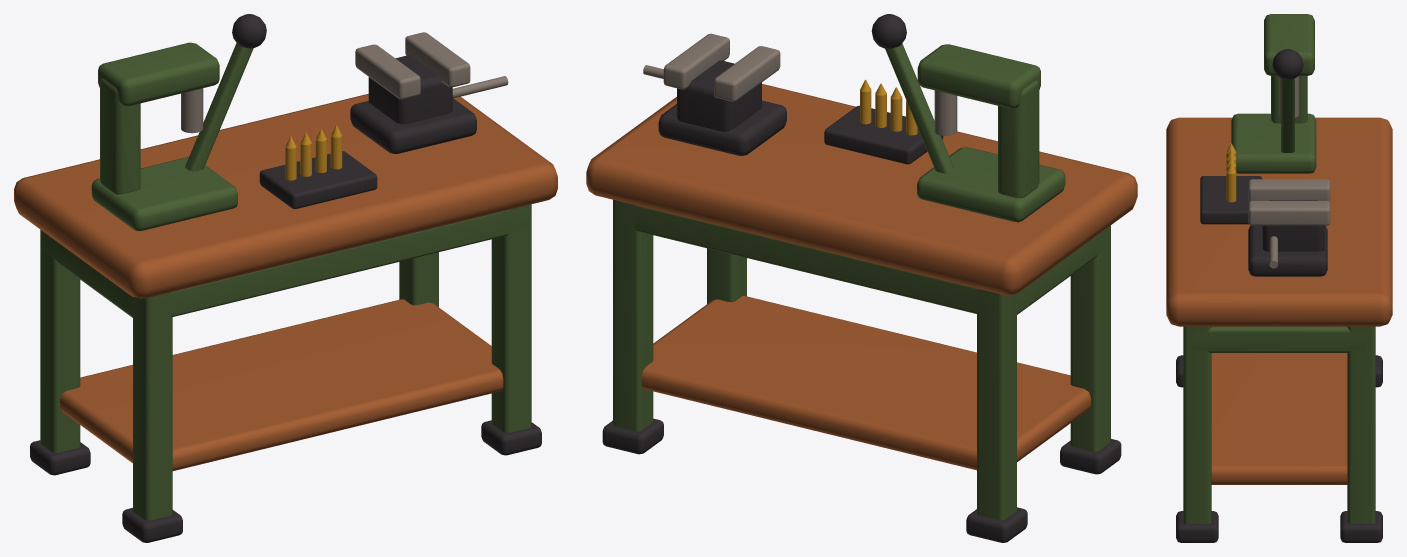
File: station-workbench.glb
3 views of the same model, side by side, from view 1: azimuth 30°, elevation 25°; view 2: azimuth 150°, elevation 25°; view 3: azimuth 270°, elevation 25° (orthographic). The views are drawn at different scales.
Parts seen in each view (by area): view 1: workbench surfaces; view 2: workbench surfaces; view 3: workbench surfaces.
Part boxes in pixels (<box>): workbench surfaces: <box>14,14,557,542</box>; workbench surfaces: <box>586,14,1137,542</box>; workbench surfaces: <box>1166,14,1392,542</box>.
Size of the model in its own units: 1.56 by 1.54 by 0.8.
